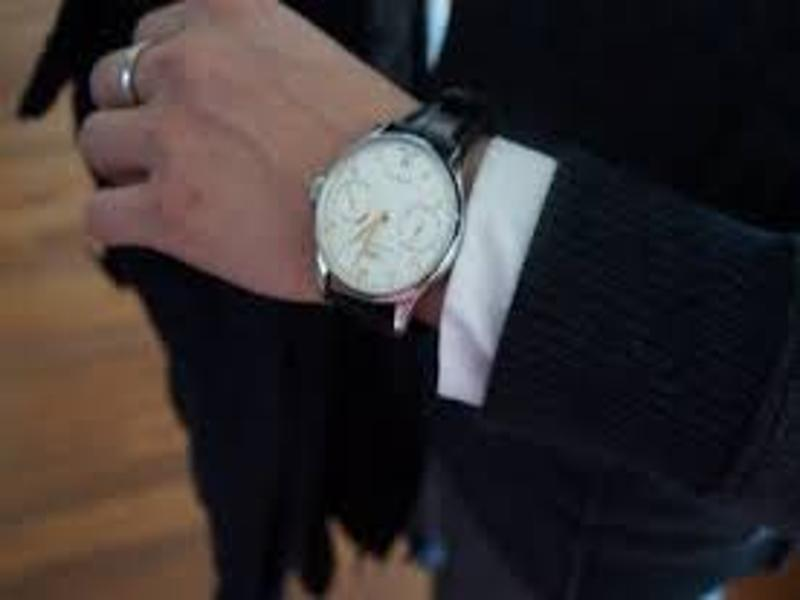watch: (293, 101, 496, 335)
